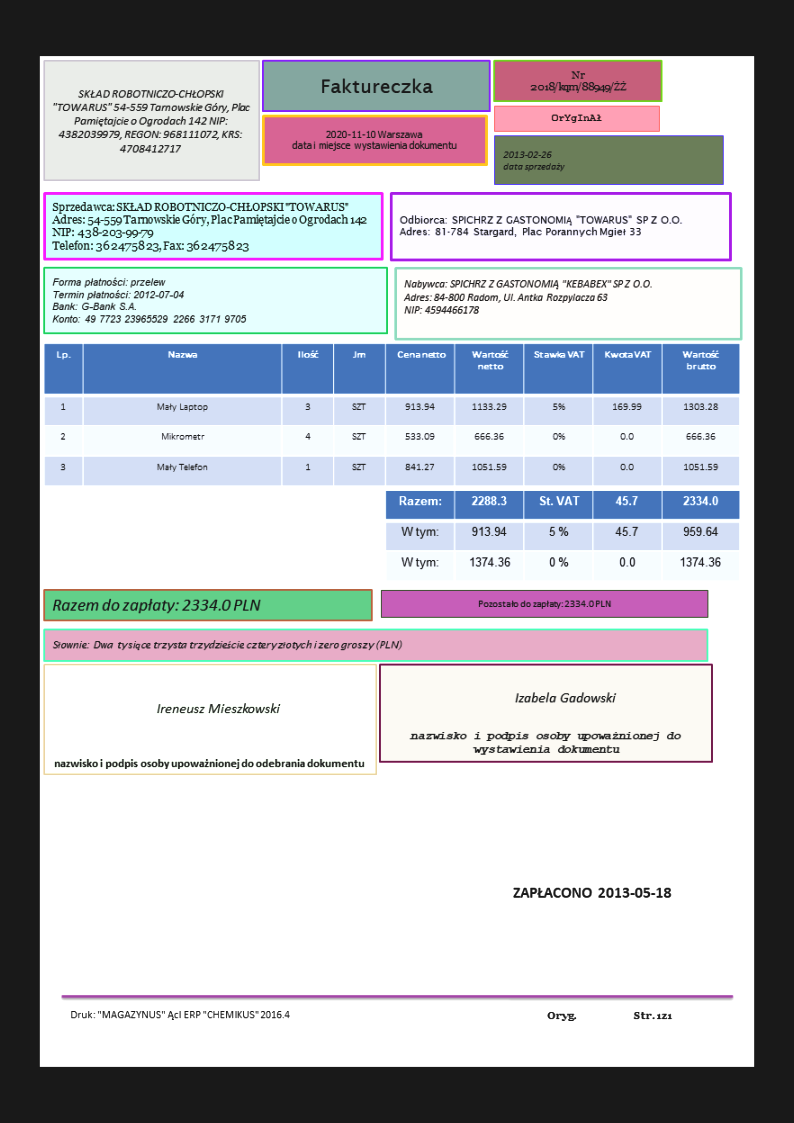Table: (42, 342, 742, 486), (384, 489, 742, 583)
TextBox: (50, 198, 371, 253), (51, 86, 255, 158), (402, 276, 656, 317), (50, 274, 249, 326), (395, 211, 685, 240), (407, 728, 684, 756), (51, 754, 366, 772), (51, 637, 403, 653), (50, 593, 263, 616), (69, 1006, 291, 1025), (289, 128, 460, 152), (508, 882, 676, 901), (528, 67, 628, 97), (153, 698, 282, 719), (319, 76, 434, 97), (512, 687, 619, 708), (545, 1007, 676, 1024), (474, 595, 616, 610), (500, 148, 567, 176), (548, 110, 603, 126)
